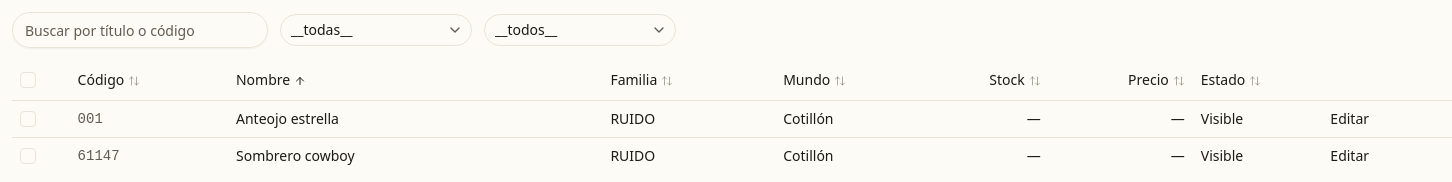
Test: PublicadoTab — búsqueda › filtra por título sin importar mayúsculas
Check: the row "001 Anteojo estrella RUIDO Cotillón — — Visible Editar" is shown, box [12,100,1451,137]
Type "ANTEOJO" into the search field with placeholder "Buscar por título o código". click: (140, 30)
box: [12,12,268,48]
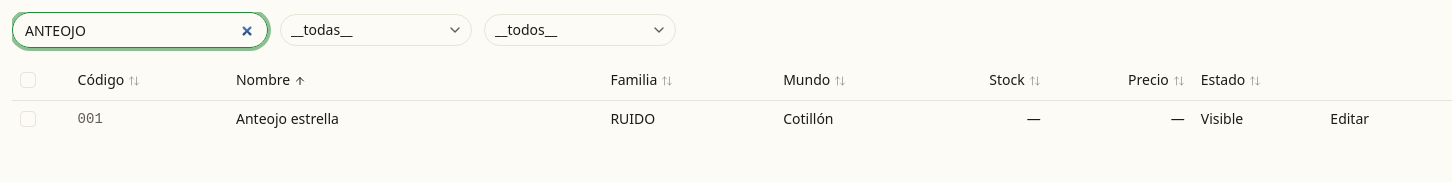
Check: the text "Anteojo estrella" is shown, box [228,100,602,136]
Check: the text "Sombrero cowboy" is gone
